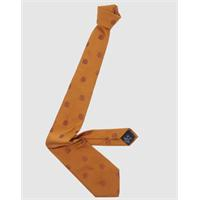tie: (46, 4, 138, 196)
